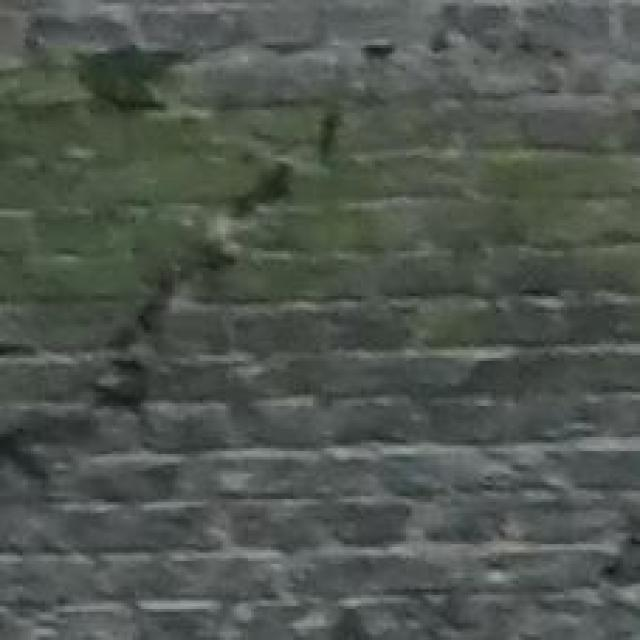Crack: (0, 17, 437, 486)
